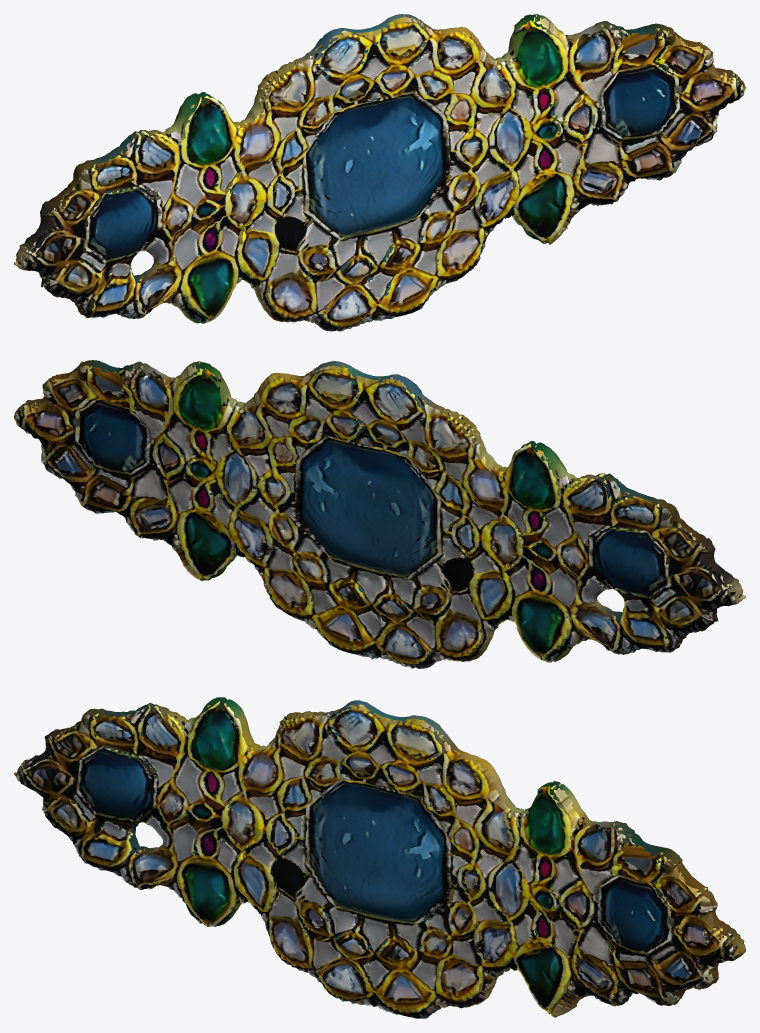
File: kfl-2231.glb
3 renders of one model, top to bottom at view 1: azimuth 30°, elevation 25°; view 2: azimuth 150°, elevation 25°; view 3: azimuth 330°, elevation 25°, orthographic.
Parts seen in each view (by area): view 1: kfl-2231; view 2: kfl-2231; view 3: kfl-2231.
Part boxes in pixels (x1,y1,x2,y2): kfl-2231: [14, 14, 745, 331]; kfl-2231: [14, 360, 745, 668]; kfl-2231: [14, 697, 745, 1018].
Size of the model in its own units: 0.9851 by 0.3803 by 0.0645.
4 materials, 4 textured.
